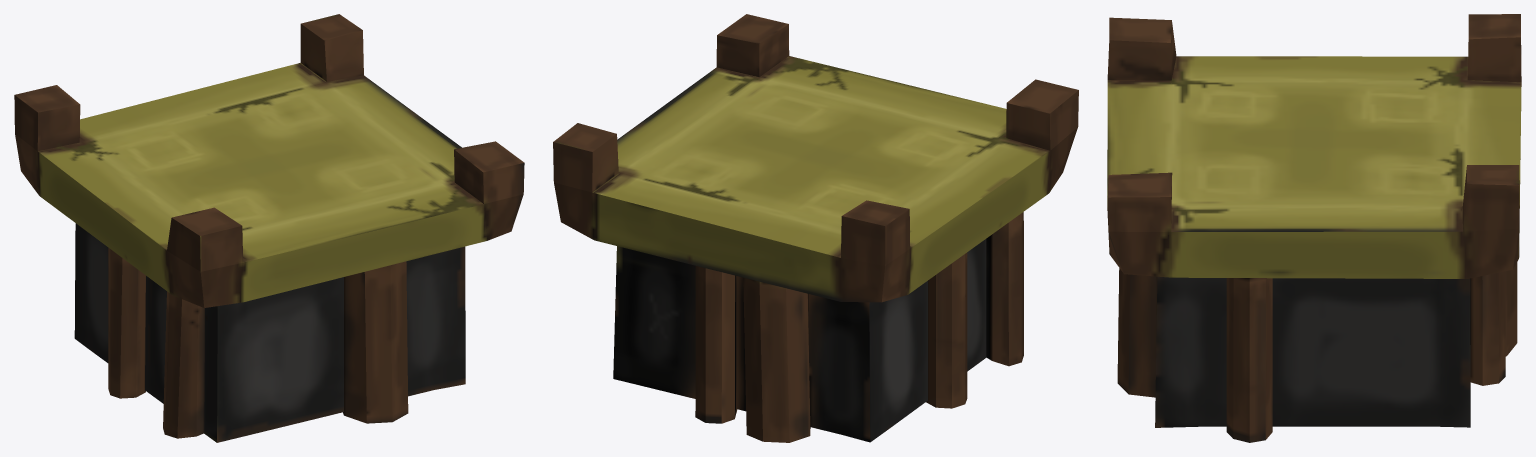
Rendered from PlatformCube.fbx.
3 renders of one model, left to right at view 1: azimuth 30°, elevation 25°; view 2: azimuth 150°, elevation 25°; view 3: azimuth 270°, elevation 25°, orthographic. The views are drawn at different scales.
Visible parts, largest first — view 1: Platform; view 2: Platform; view 3: Platform.
Boxes of the visible parts, box(x1,y1,x2,y2) form: Platform: box(14, 14, 524, 442); Platform: box(553, 14, 1078, 442); Platform: box(1107, 14, 1521, 442).
Size of the model in its own units: 0.7771 by 0.5564 by 0.772.
